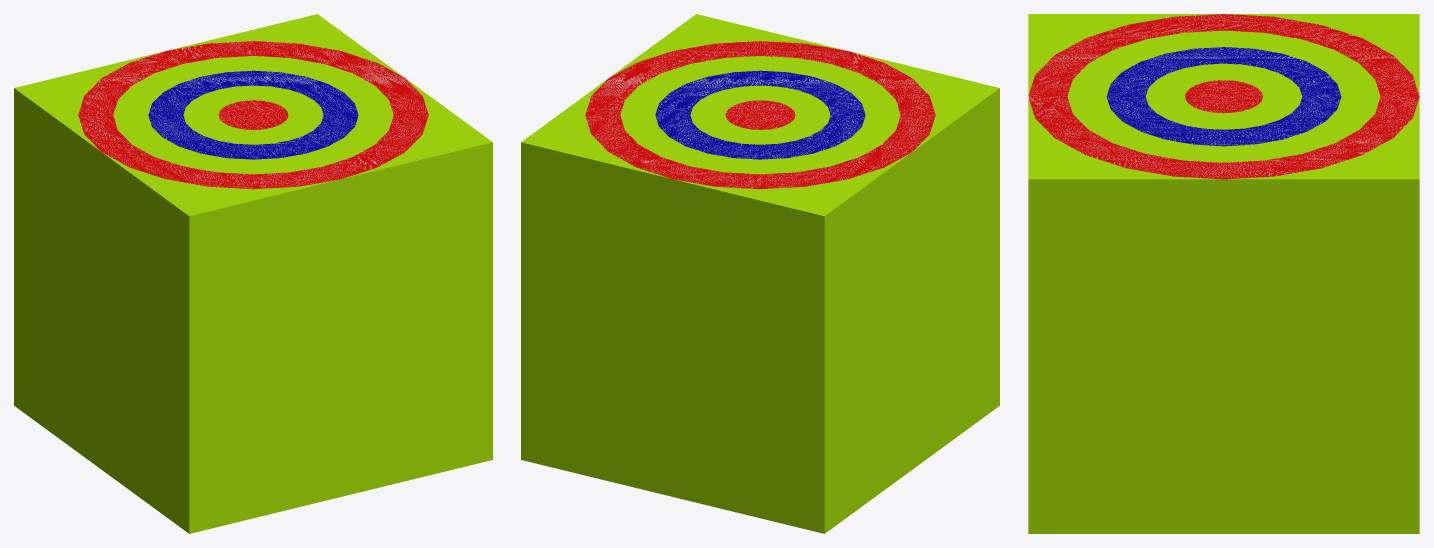
The model's file is landingPadGreen.fbx.
3 renders of one model, left to right at view 1: azimuth 30°, elevation 25°; view 2: azimuth 150°, elevation 25°; view 3: azimuth 270°, elevation 25°, orthographic. The views are drawn at different scales.
Parts seen in each view (by area): view 1: SketchUp, SketchUp_001, SketchUp_002, SketchUp_003, SketchUp_004, SketchUp_005; view 2: SketchUp, SketchUp_001, SketchUp_002, SketchUp_003, SketchUp_004, SketchUp_005; view 3: SketchUp, SketchUp_001, SketchUp_002, SketchUp_003, SketchUp_004, SketchUp_005.
Part boxes in pixels (box(x1,y1,x2,y2)): SketchUp: box(14, 14, 492, 533); SketchUp_001: box(78, 41, 428, 189); SketchUp_002: box(113, 56, 393, 174); SketchUp_003: box(148, 70, 358, 159); SketchUp_004: box(183, 85, 323, 144); SketchUp_005: box(218, 100, 288, 129); SketchUp: box(521, 14, 999, 533); SketchUp_001: box(585, 41, 935, 189); SketchUp_002: box(620, 56, 900, 174); SketchUp_003: box(655, 70, 865, 159); SketchUp_004: box(690, 85, 830, 144); SketchUp_005: box(725, 100, 795, 129); SketchUp: box(1028, 14, 1419, 533); SketchUp_001: box(1028, 14, 1419, 179); SketchUp_002: box(1067, 30, 1380, 162); SketchUp_003: box(1106, 47, 1341, 146); SketchUp_004: box(1145, 63, 1302, 129); SketchUp_005: box(1185, 80, 1262, 113).
Bounding box in the file's own units: 591 × 591 × 591.
